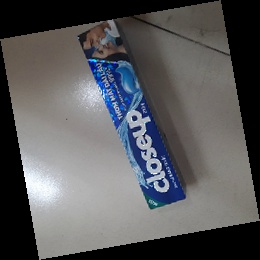CloseUp Tuyet: (74, 19, 192, 213)
